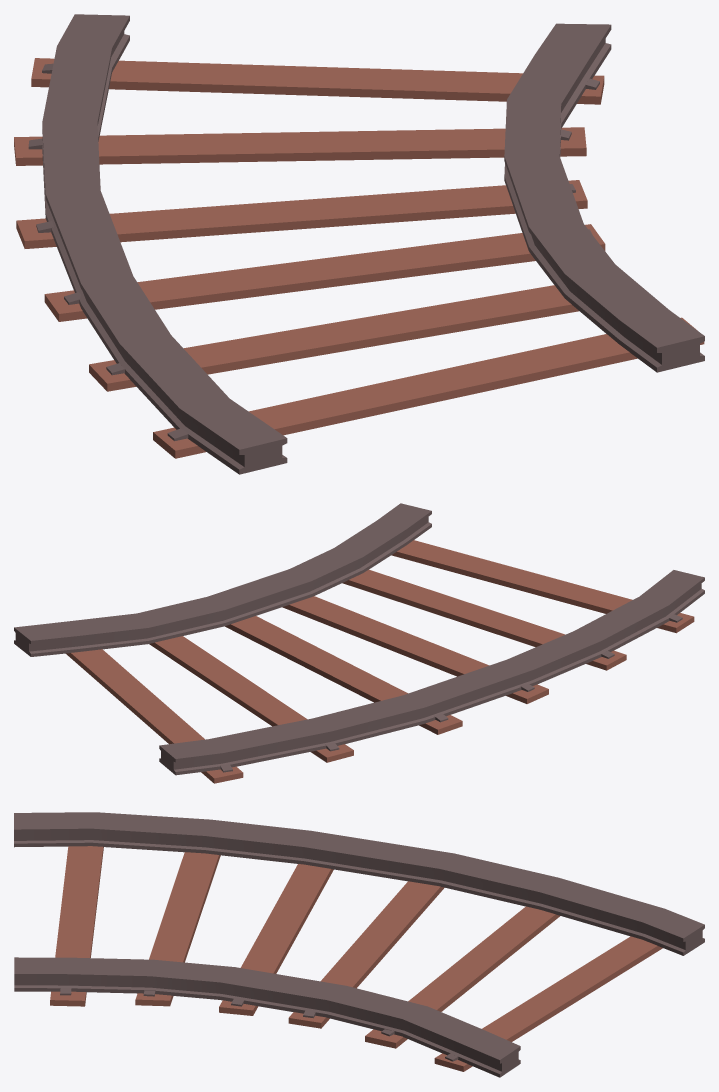
The model's file is Trilho_Curva_Maior_Direita.fbx.
3 views of the same model, one above another, from view 1: azimuth 30°, elevation 25°; view 2: azimuth 150°, elevation 25°; view 3: azimuth 270°, elevation 25° (orthographic). The views are drawn at different scales.
Visible parts, largest first — view 1: Trilho_Curva_Maior_Direita; view 2: Trilho_Curva_Maior_Direita; view 3: Trilho_Curva_Maior_Direita.
Part boxes in pixels (<box>): Trilho_Curva_Maior_Direita: <box>14,14,704,474</box>; Trilho_Curva_Maior_Direita: <box>14,503,704,783</box>; Trilho_Curva_Maior_Direita: <box>14,812,704,1077</box>.
Bounding box in the file's own units: 3.06 × 3.5 × 0.1294.
